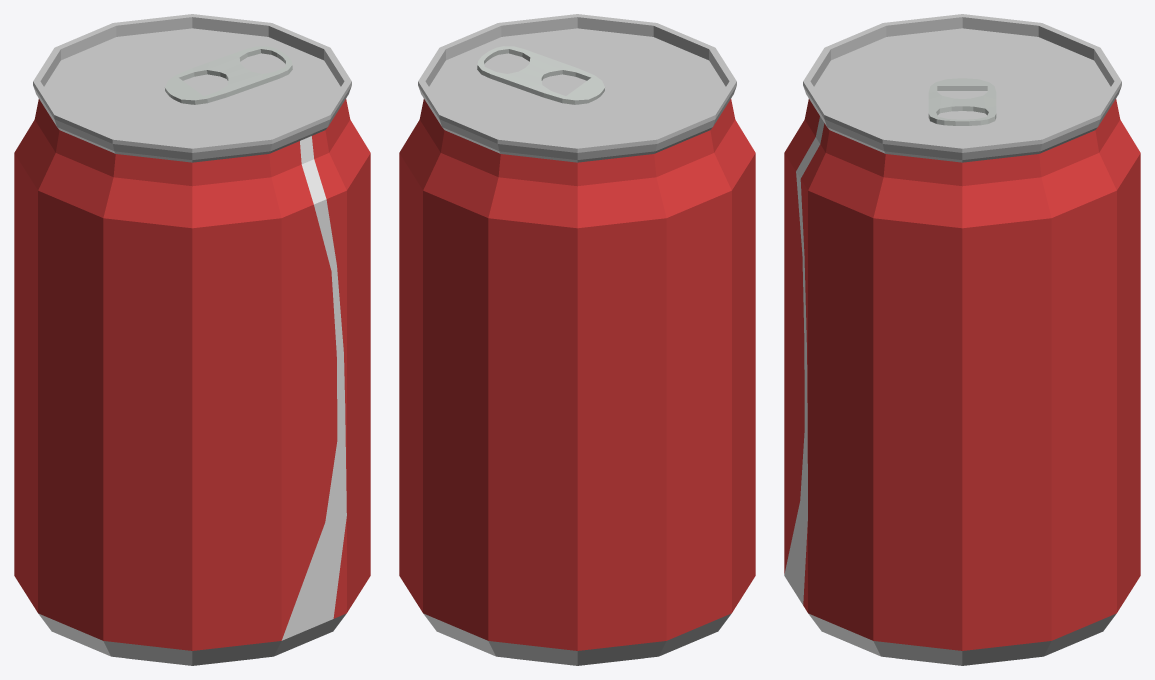
File: cola_can_0402.fbx
3 views of the same model, side by side, from view 1: azimuth 30°, elevation 25°; view 2: azimuth 150°, elevation 25°; view 3: azimuth 270°, elevation 25° (orthographic).
Parts seen in each view (by area): view 1: cola; view 2: cola; view 3: cola.
Part boxes in pixels (<box>): cola: <box>14,14,370,665</box>; cola: <box>399,14,755,665</box>; cola: <box>784,14,1140,665</box>.
Bounding box in the file's own units: 13.66 × 22.56 × 13.66.
Materials: 1 (1 with a texture image).
